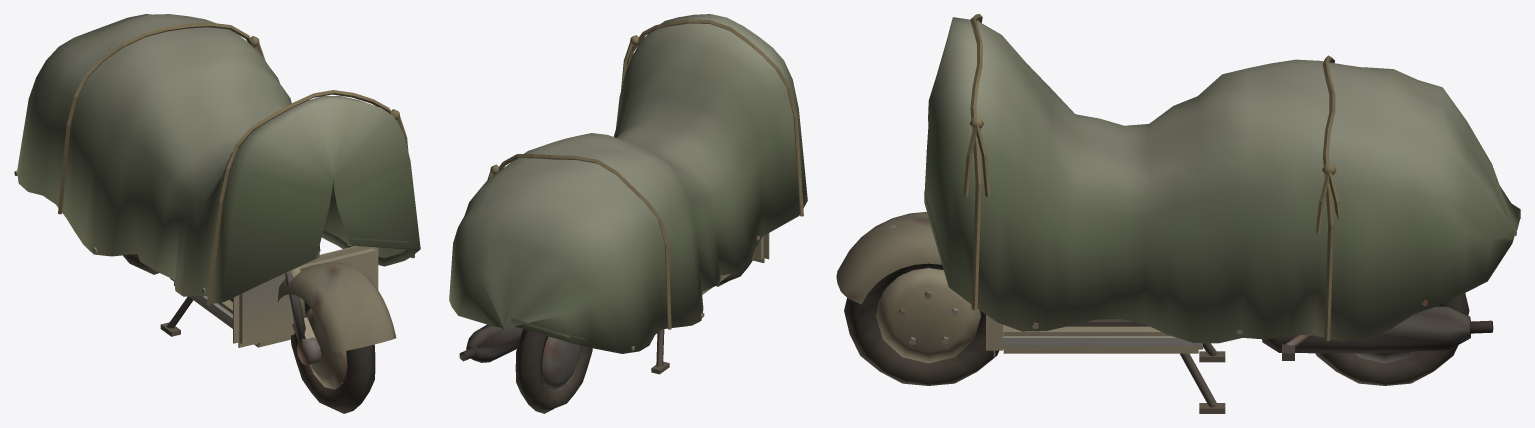
File: scooter_covered_v2_b.glb
The picture shows the model from 3 angles, left to right: view 1: azimuth 30°, elevation 25°; view 2: azimuth 150°, elevation 25°; view 3: azimuth 270°, elevation 25°; orthographic projection. The views are drawn at different scales.
Visible parts, largest first — view 1: hb_thatch, hb_metal, hb_main; view 2: hb_thatch, hb_main, hb_metal; view 3: hb_thatch, hb_metal, hb_main.
Part boxes in pixels (x1,y1,x2,y2): hb_thatch: [17, 14, 420, 303]; hb_metal: [14, 170, 396, 389]; hb_main: [58, 22, 414, 413]; hb_thatch: [449, 14, 807, 353]; hb_main: [487, 19, 803, 413]; hb_metal: [459, 233, 769, 391]; hb_thatch: [924, 17, 1520, 343]; hb_metal: [836, 212, 1493, 407]; hb_main: [844, 14, 1469, 413].
Size of the model in its own units: 0.8329 by 1.07 by 1.84.
